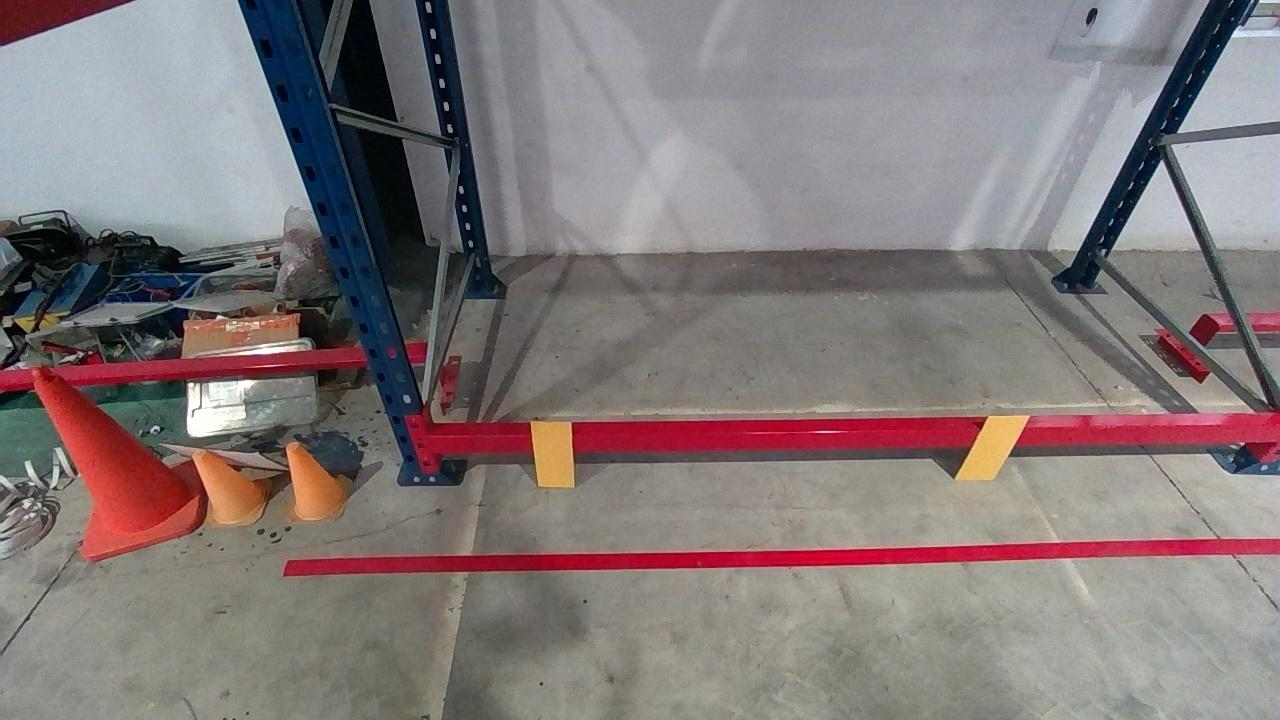h_rack: (432, 425, 1279, 454)
orange_strip: (949, 415, 1035, 479), (529, 421, 575, 487)
red_line: (283, 538, 1278, 573)
